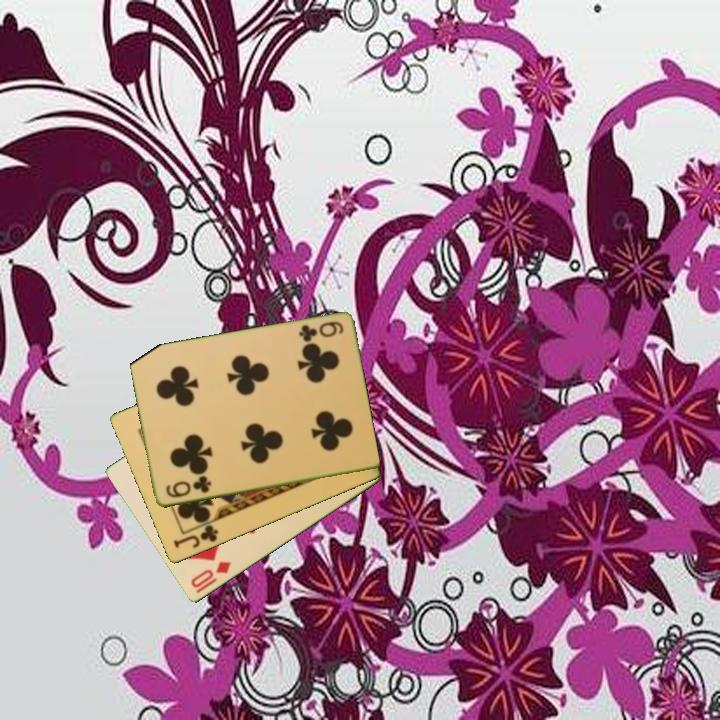10d: (187, 558, 234, 591)
6c: (162, 474, 214, 501), (295, 318, 346, 345)
Jc: (170, 522, 221, 552)
